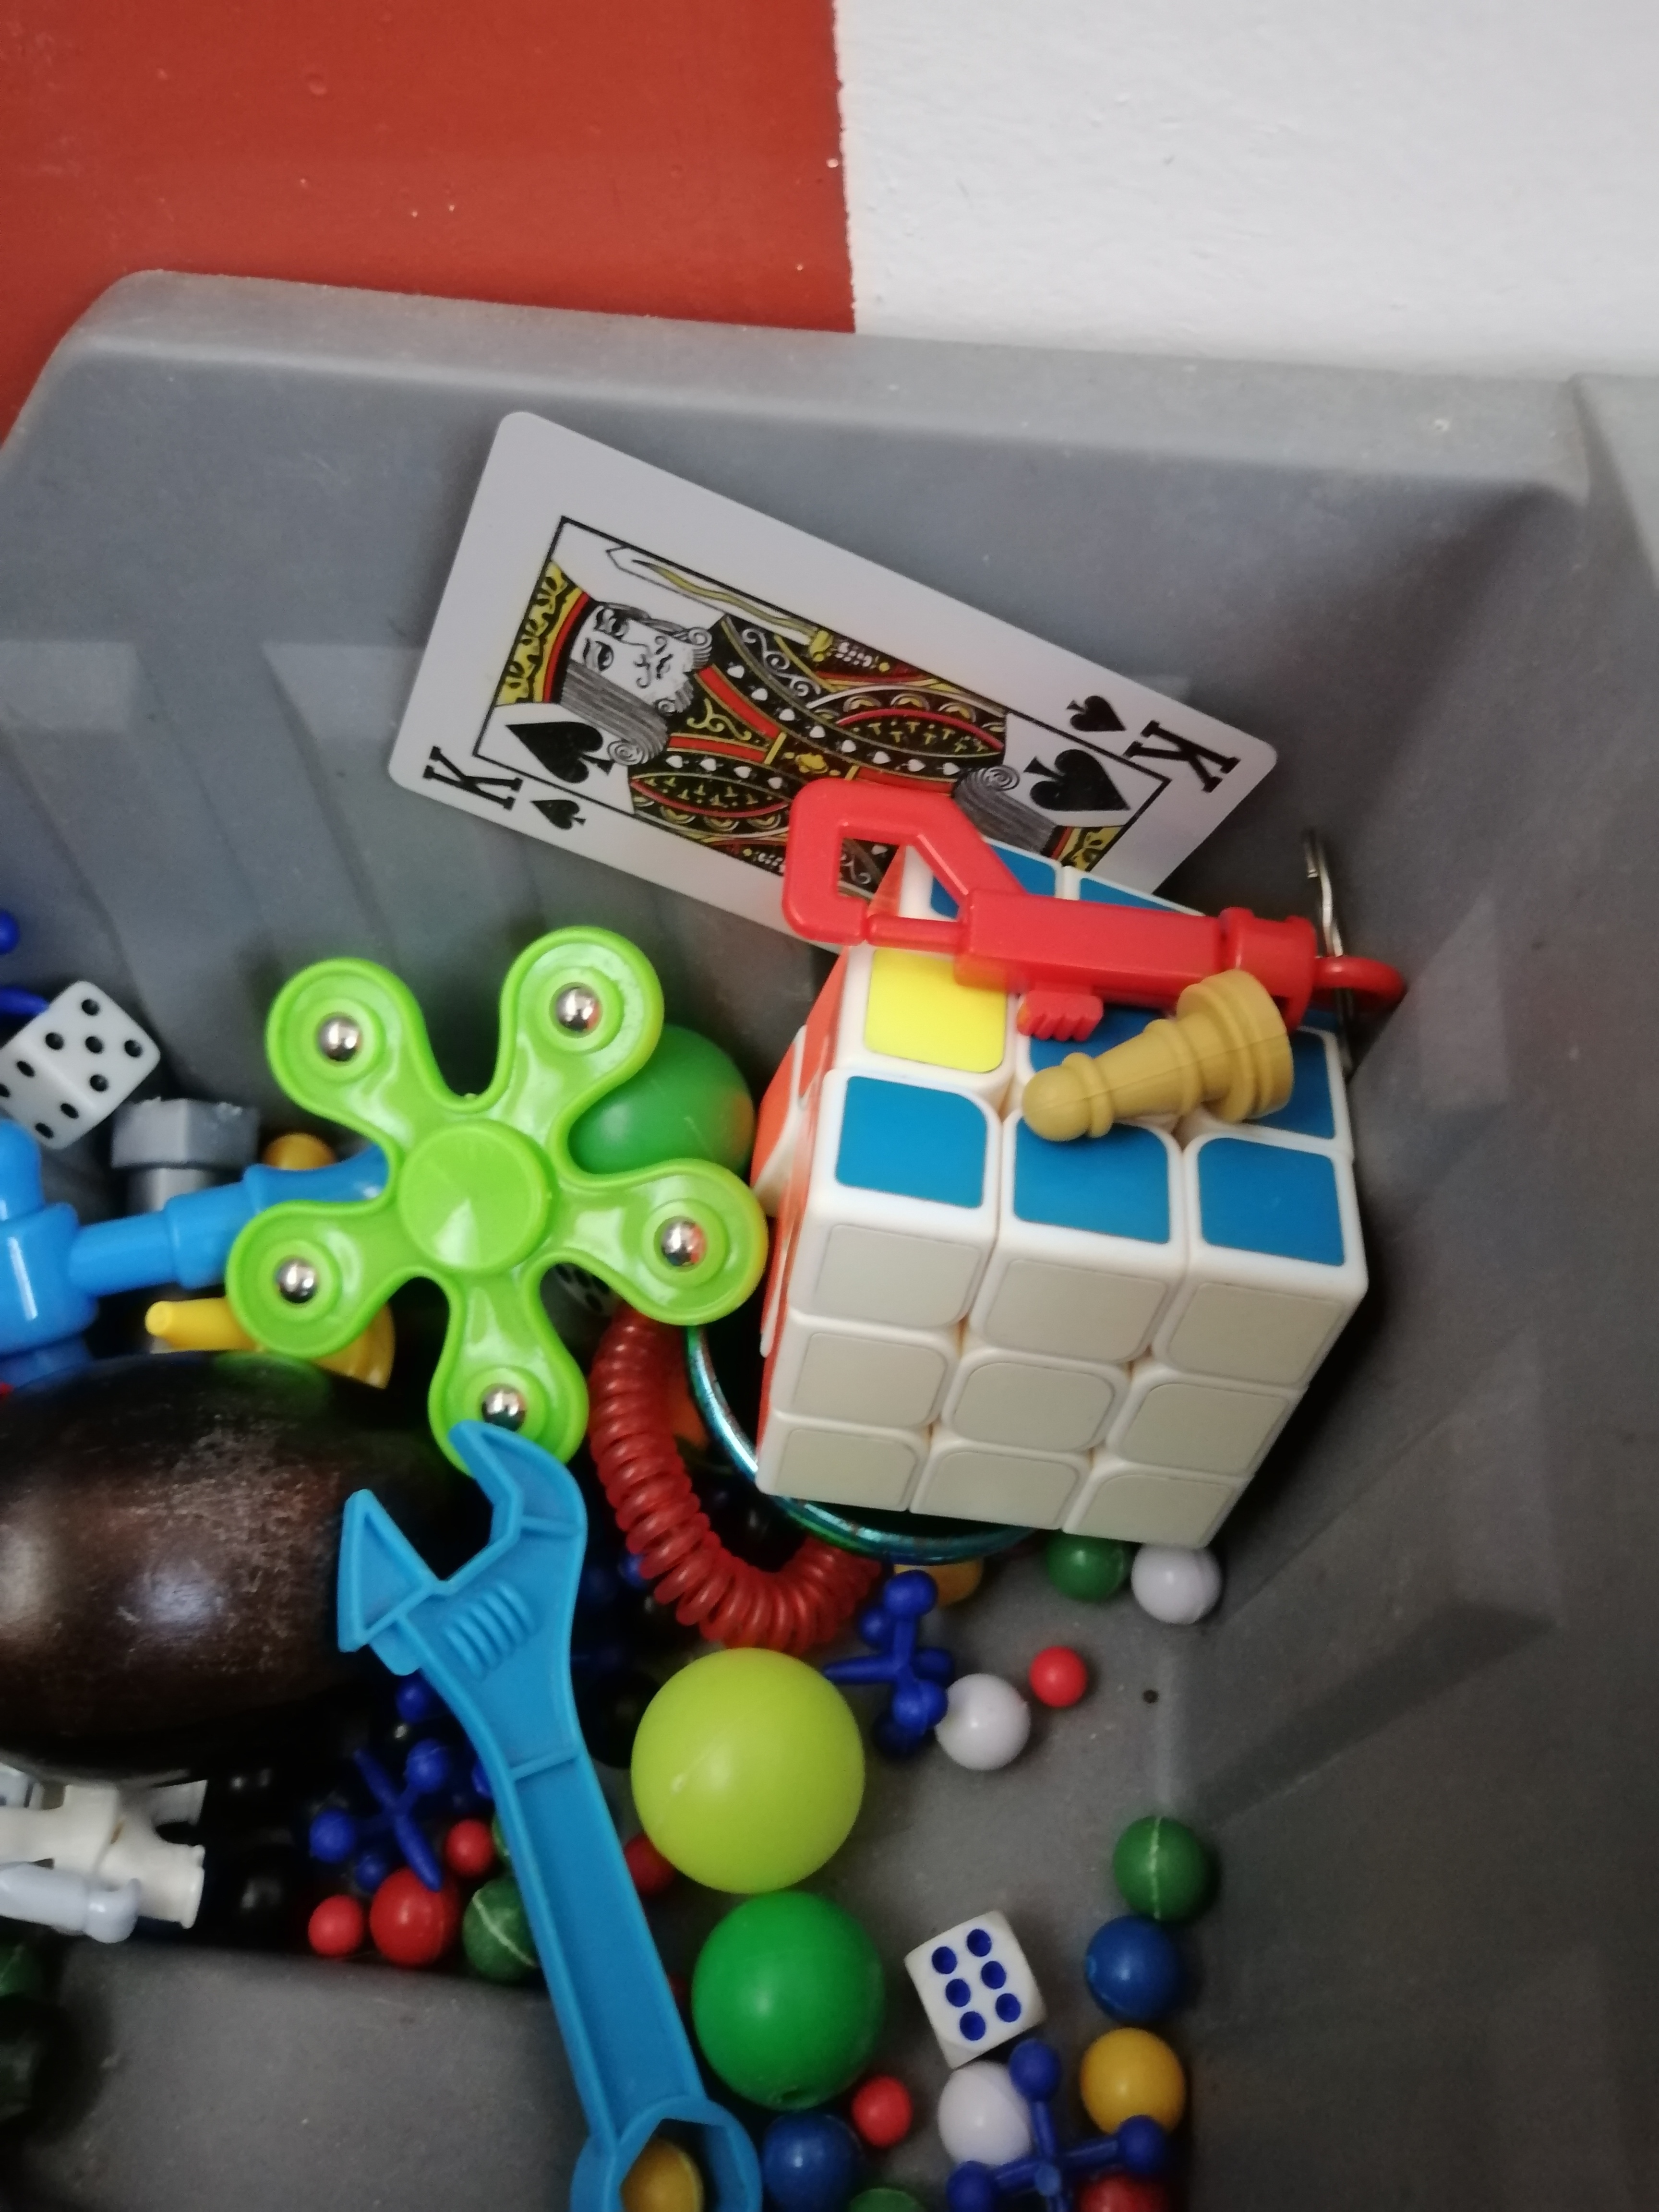king: (392, 425, 1303, 916)
